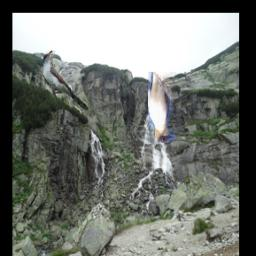Cuckoo: (43, 51, 89, 111), (148, 72, 176, 143)
